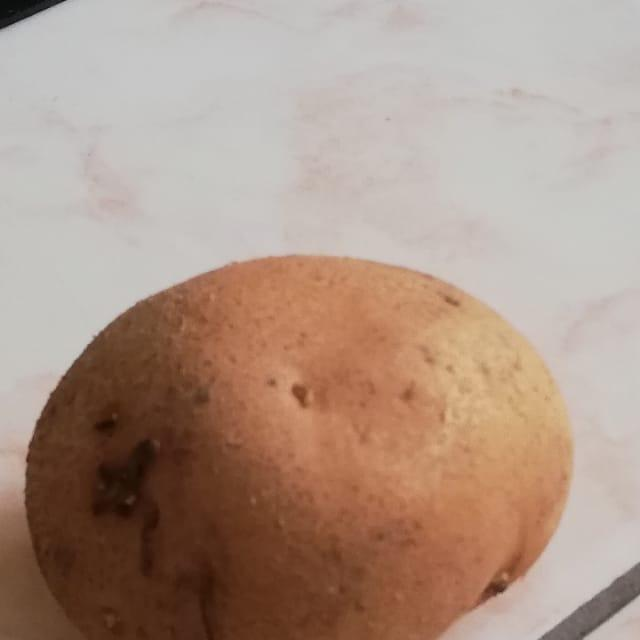potato: (0, 236, 621, 640)
